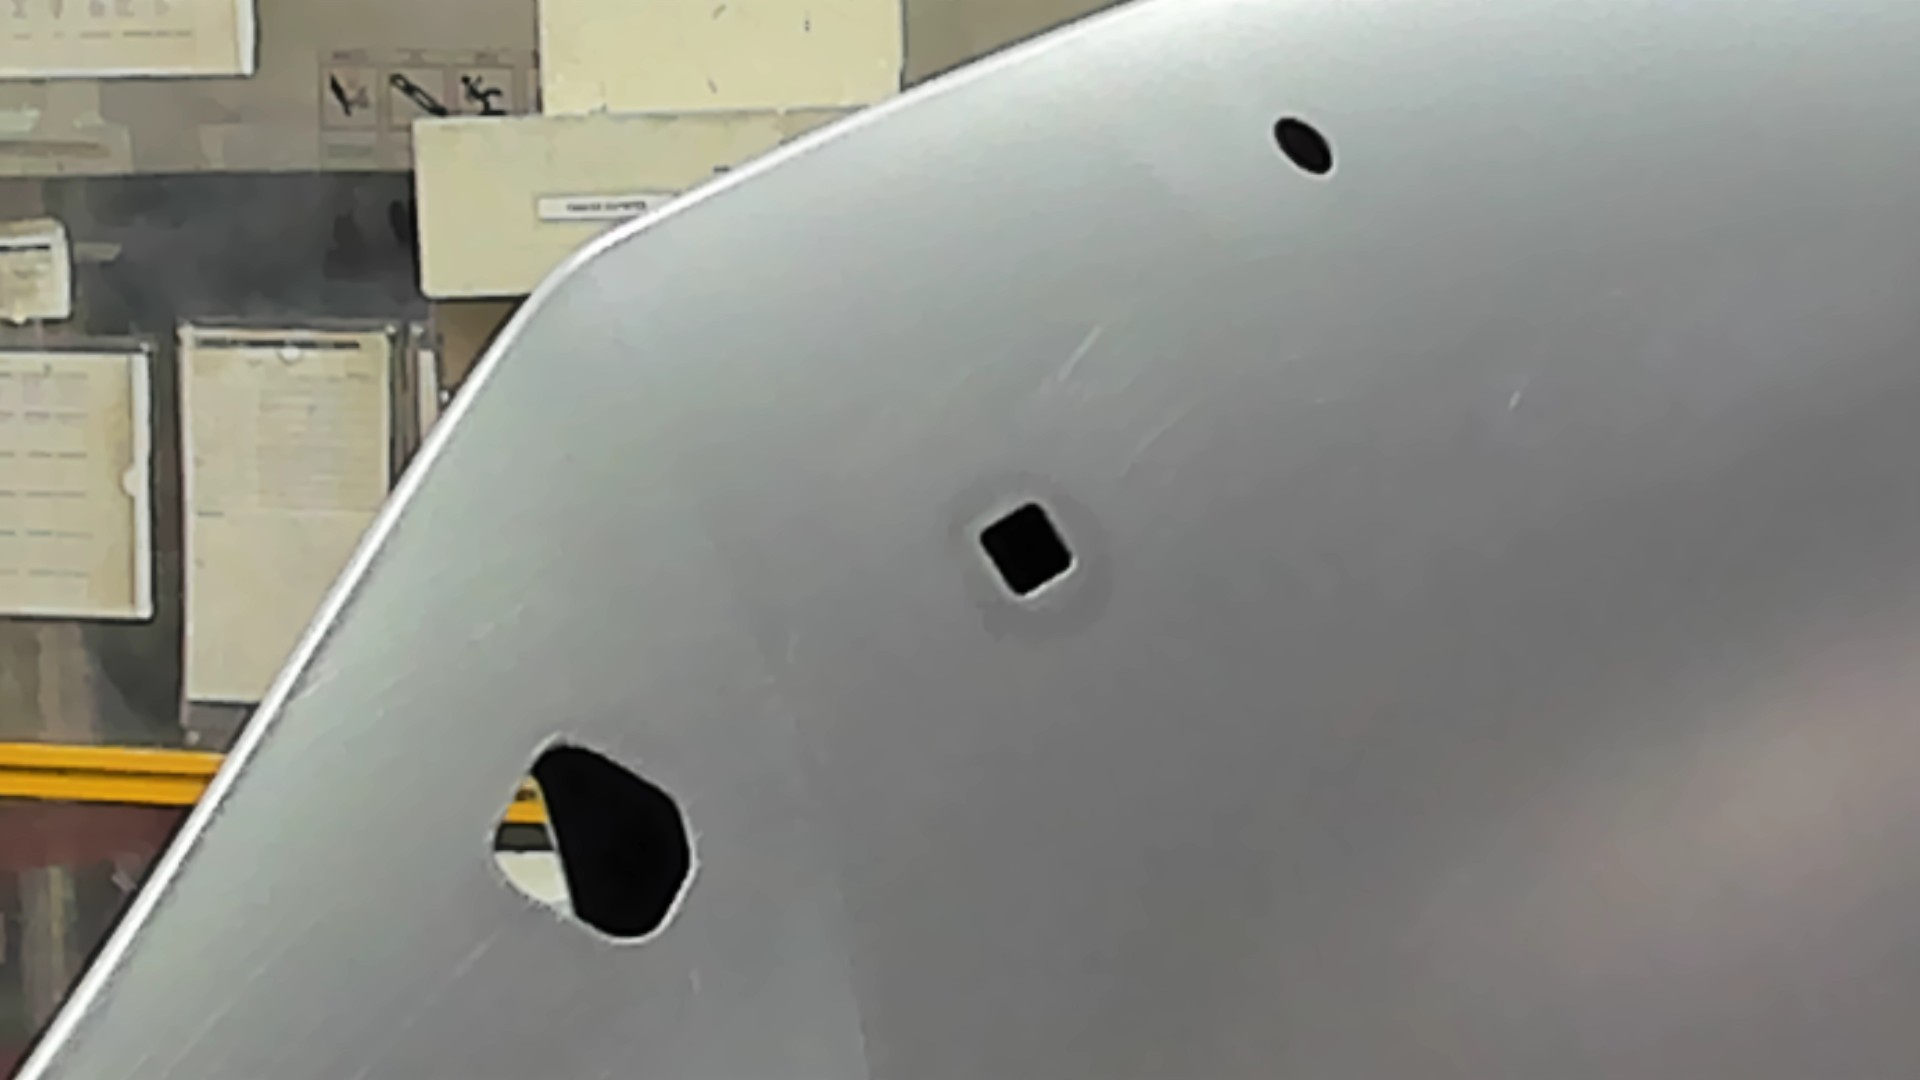chico: (1273, 113, 1336, 177)
grande: (487, 733, 700, 945)
mediano: (975, 497, 1077, 601)
